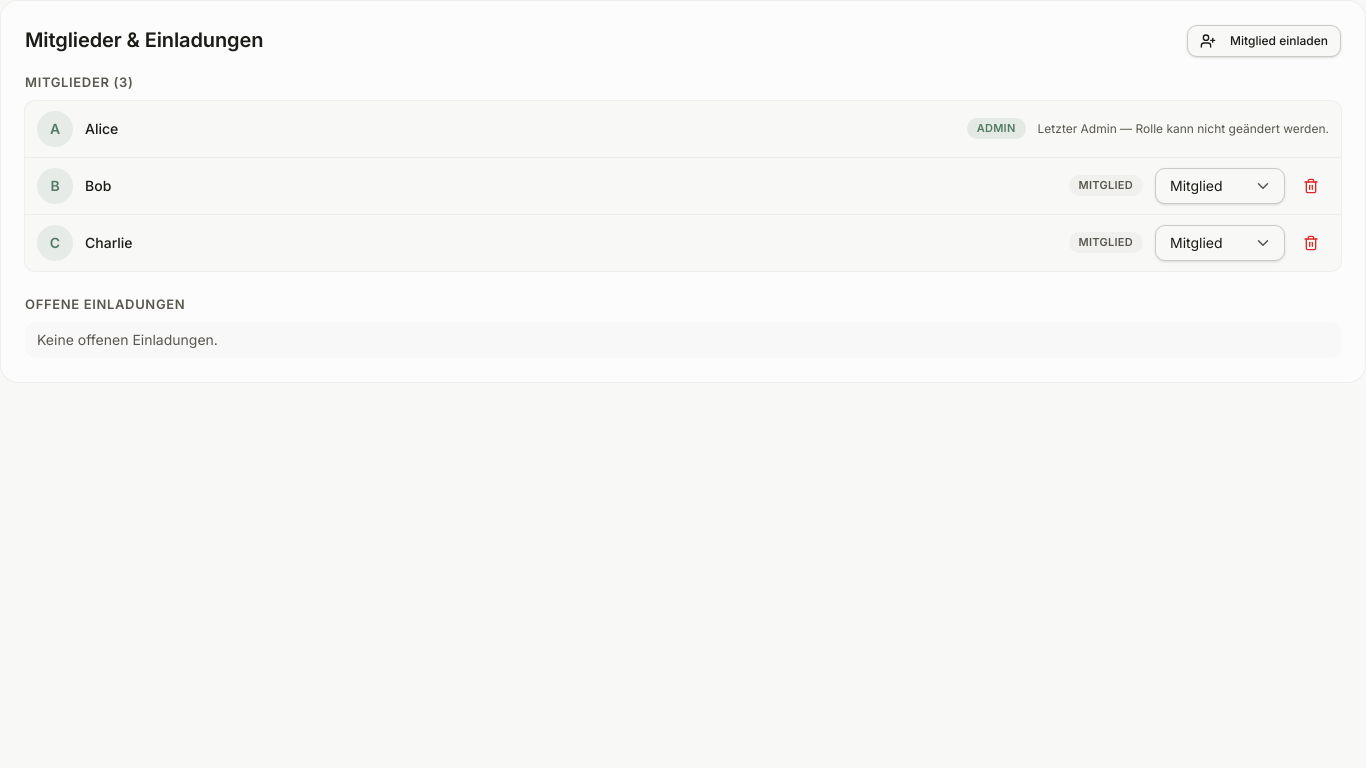
<GroupMembersAndInvitesPanel /> — members list › remove is skipped when the ConfirmDialog is cancelled
Click the button named "Bob entfernen" at [1311, 186], box [1293,168,1329,204]
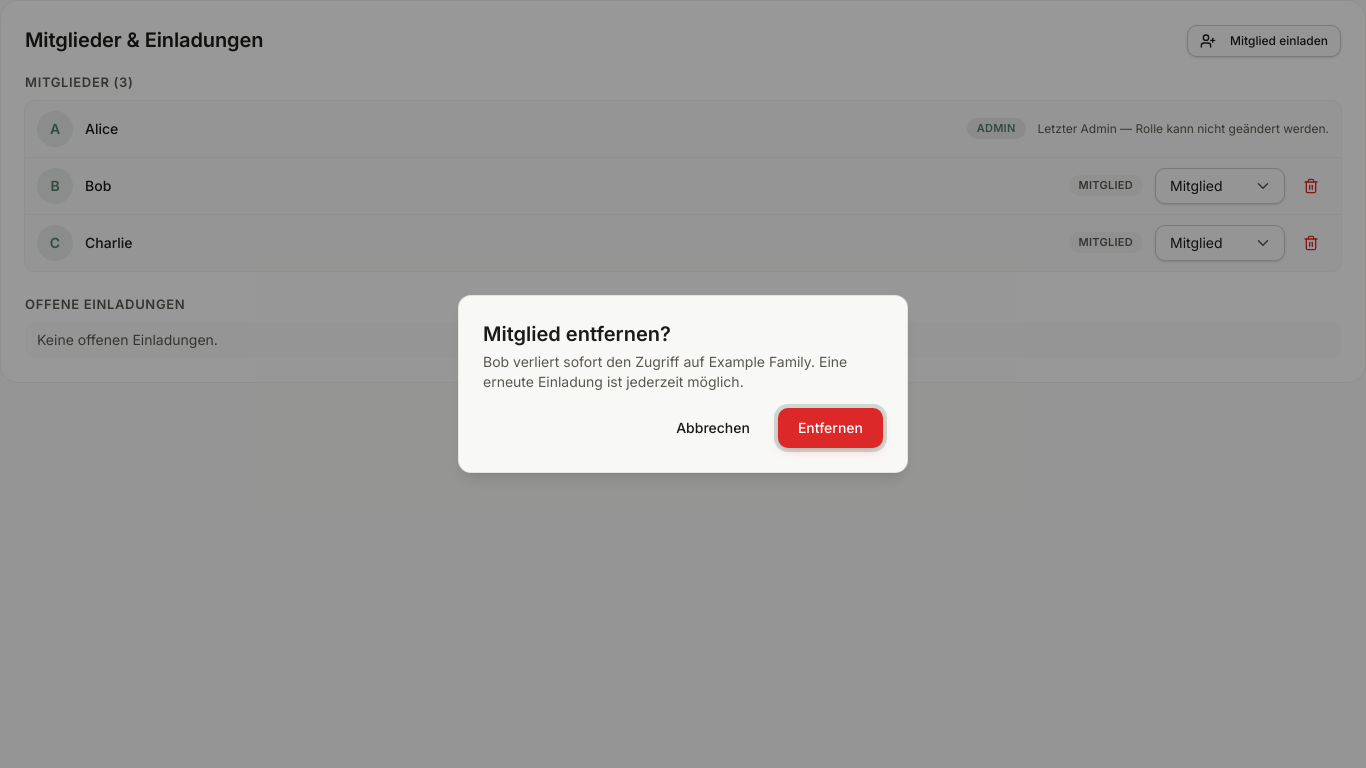
Click the button "Abbrechen" at [713, 428], box [656,408,770,448]
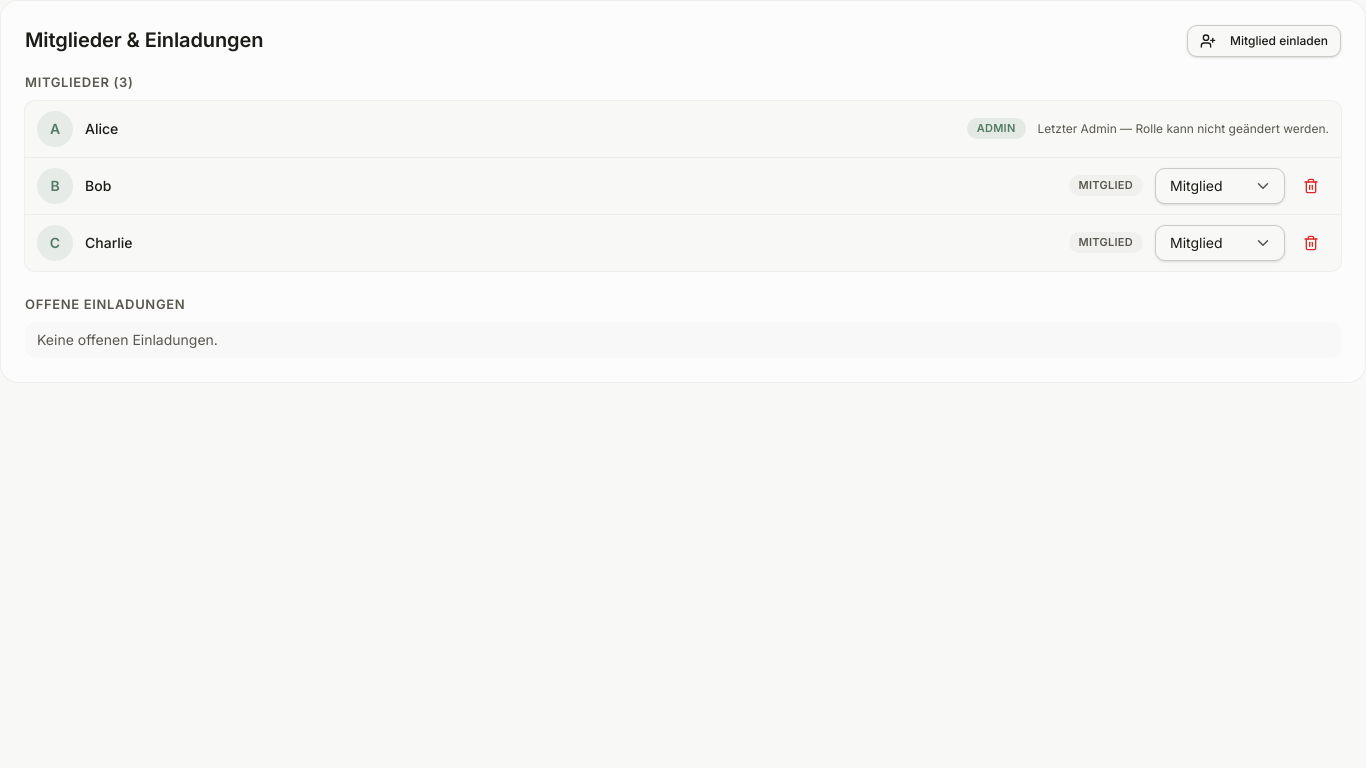
Expected: the dialog with test id "confirm-dialog" is gone
